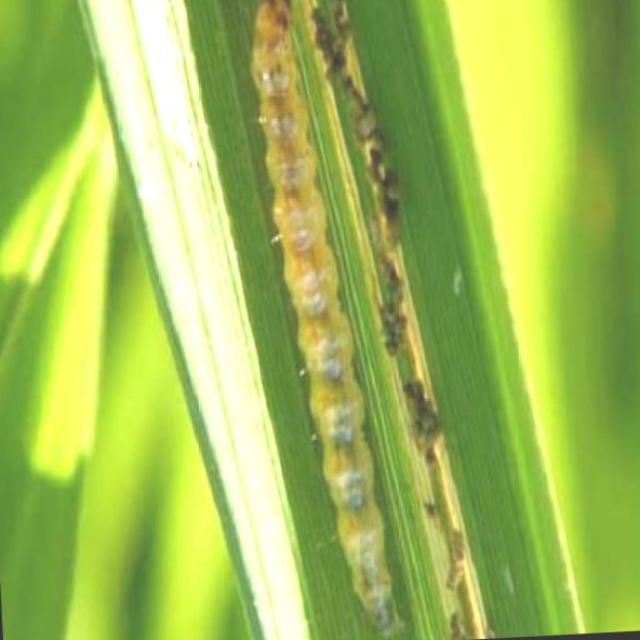leaf folder: (253, 0, 401, 636)
